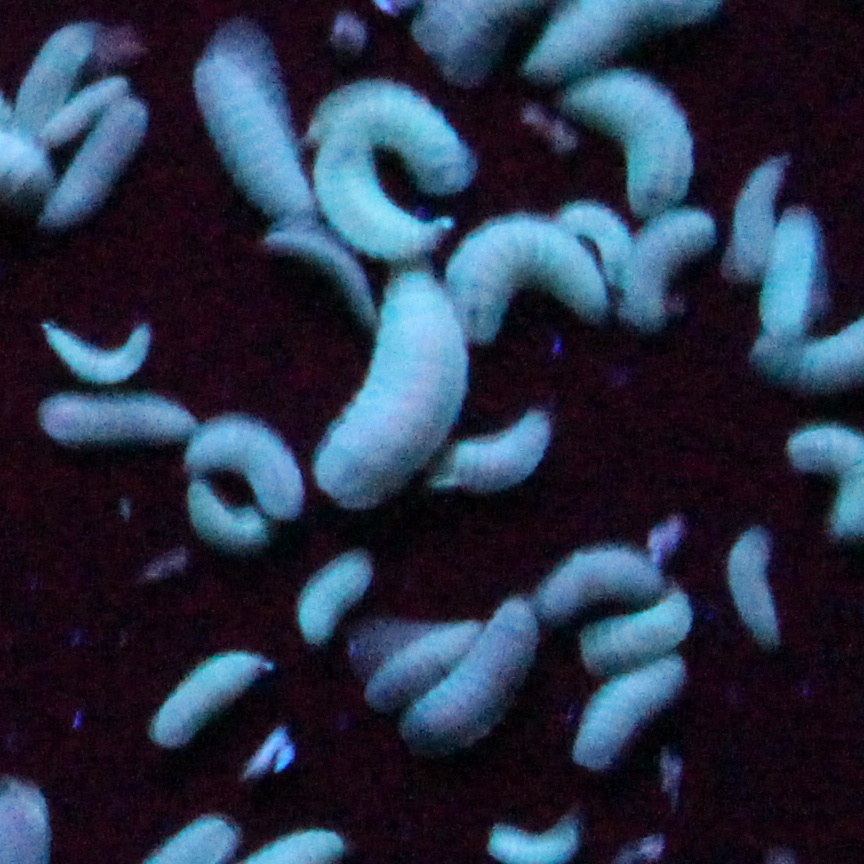larve: (322, 263, 443, 509), (191, 19, 316, 226), (443, 219, 614, 342), (401, 598, 537, 746), (316, 115, 445, 259), (312, 80, 476, 190), (572, 71, 689, 205), (37, 96, 145, 226), (570, 657, 684, 771), (189, 411, 307, 521), (149, 646, 270, 744), (612, 209, 716, 323), (428, 405, 559, 488), (582, 586, 701, 671), (541, 542, 670, 617), (376, 621, 487, 707), (14, 13, 99, 119), (41, 315, 162, 386), (726, 526, 795, 648), (764, 203, 822, 334), (39, 398, 205, 442), (299, 553, 372, 642), (184, 480, 264, 548), (45, 76, 132, 138)
